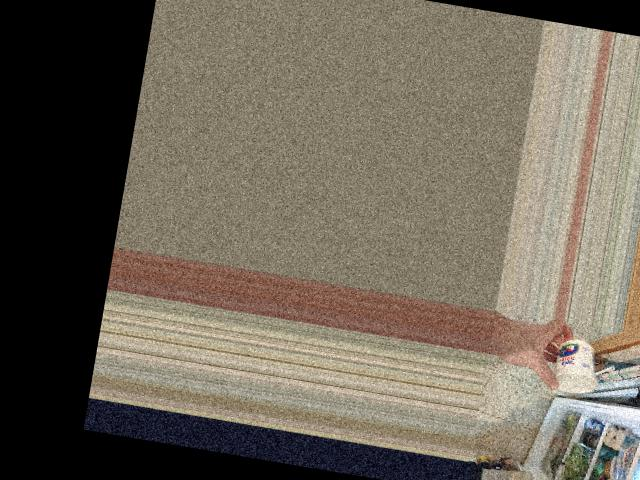cotage: (544, 333, 604, 397)
